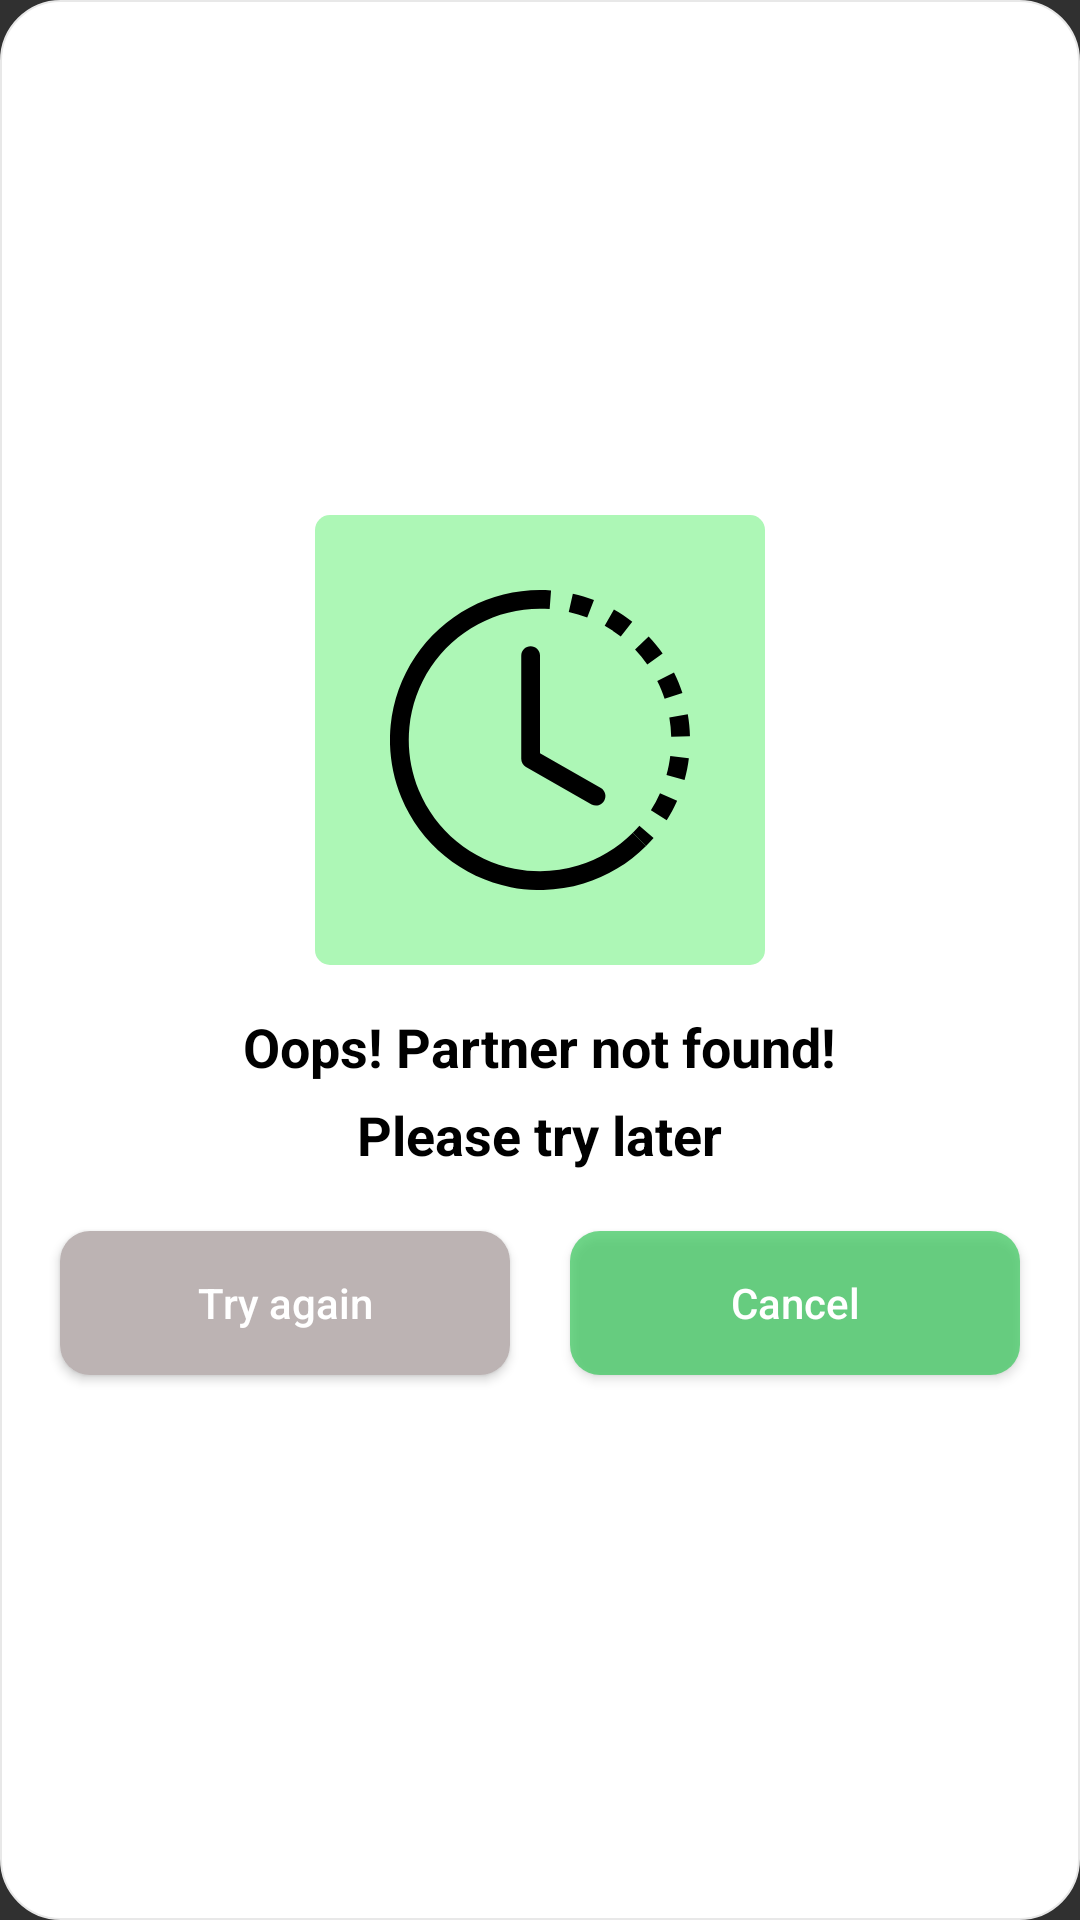

Icon click points for this 1080 × 1920 phone screenshot, format (x=x, y=y):
clock history: (x=540, y=740)
